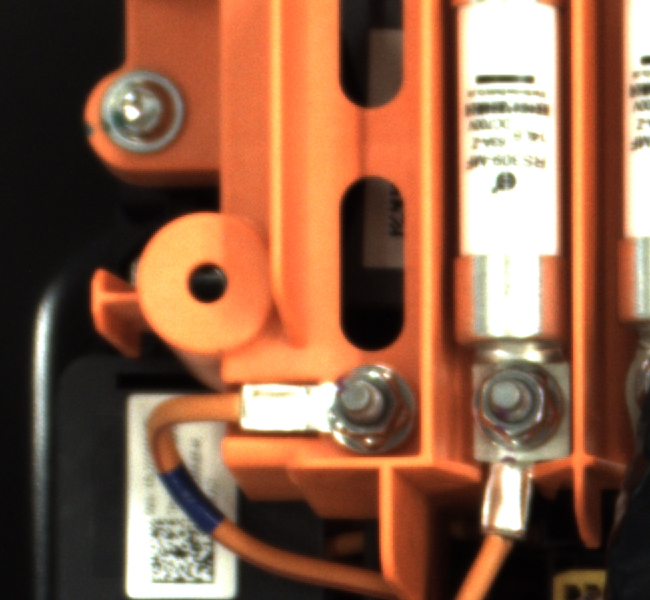screw_m: (90, 70, 212, 174)
screw_s: (454, 361, 563, 458), (316, 357, 412, 454)
